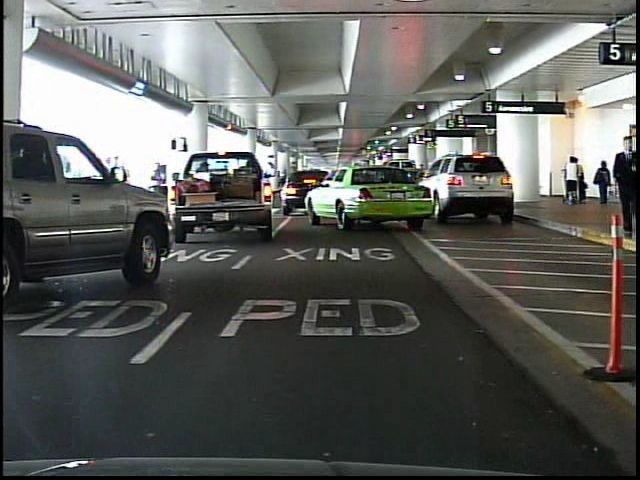person: (610, 136, 639, 245), (149, 158, 173, 219), (592, 157, 614, 207), (567, 155, 582, 206), (572, 158, 584, 209)
